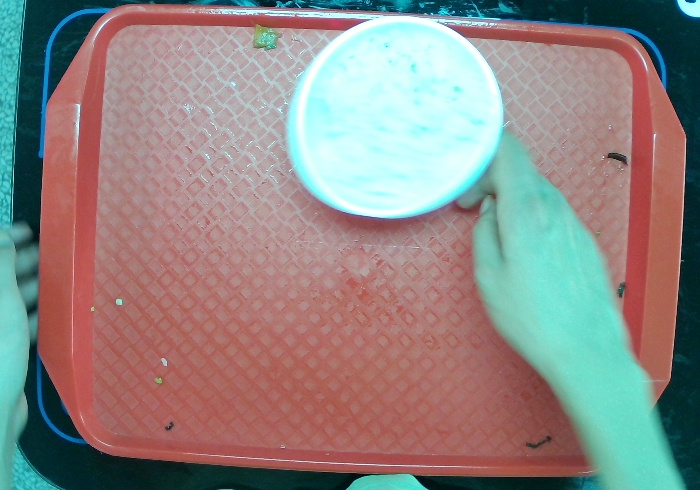YKMZ-Fan_Wan: (283, 1, 511, 240)
